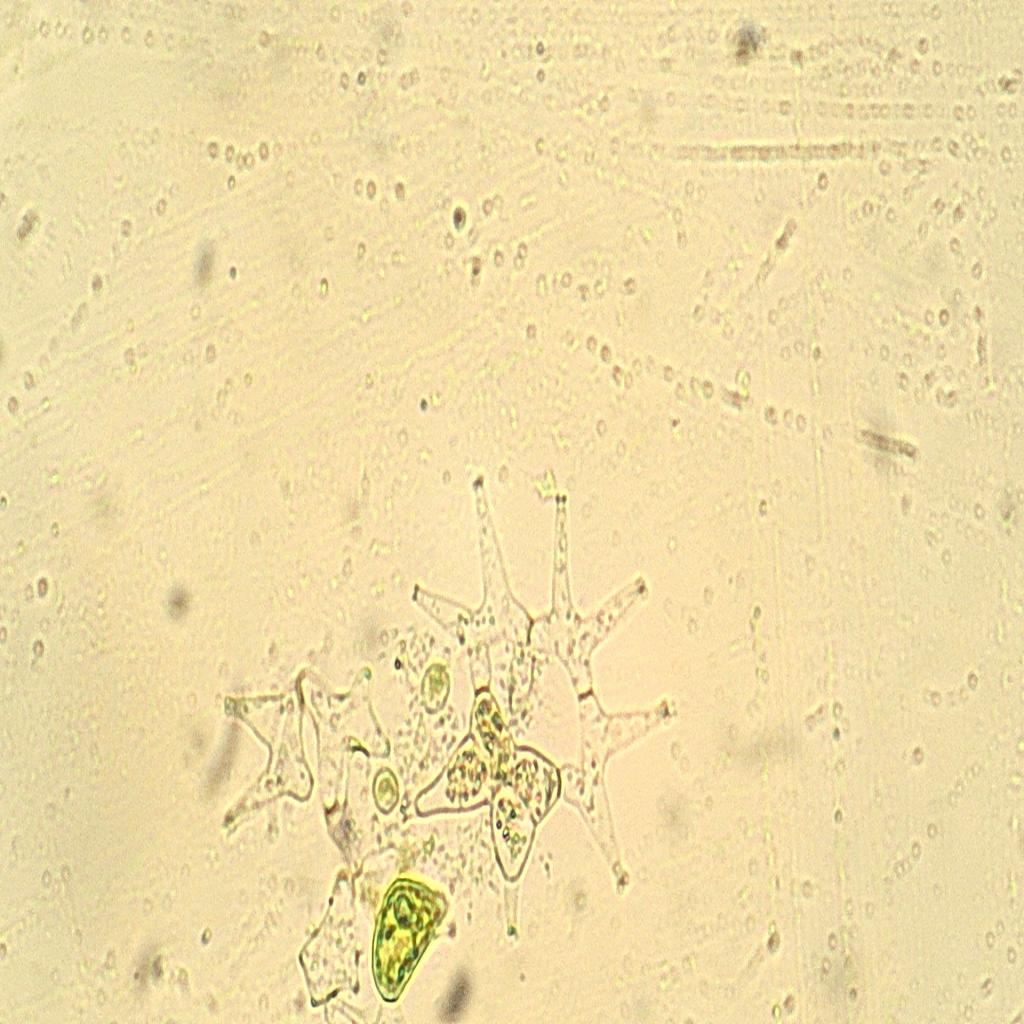Pediastrum_75TH: (378, 441, 686, 963)
